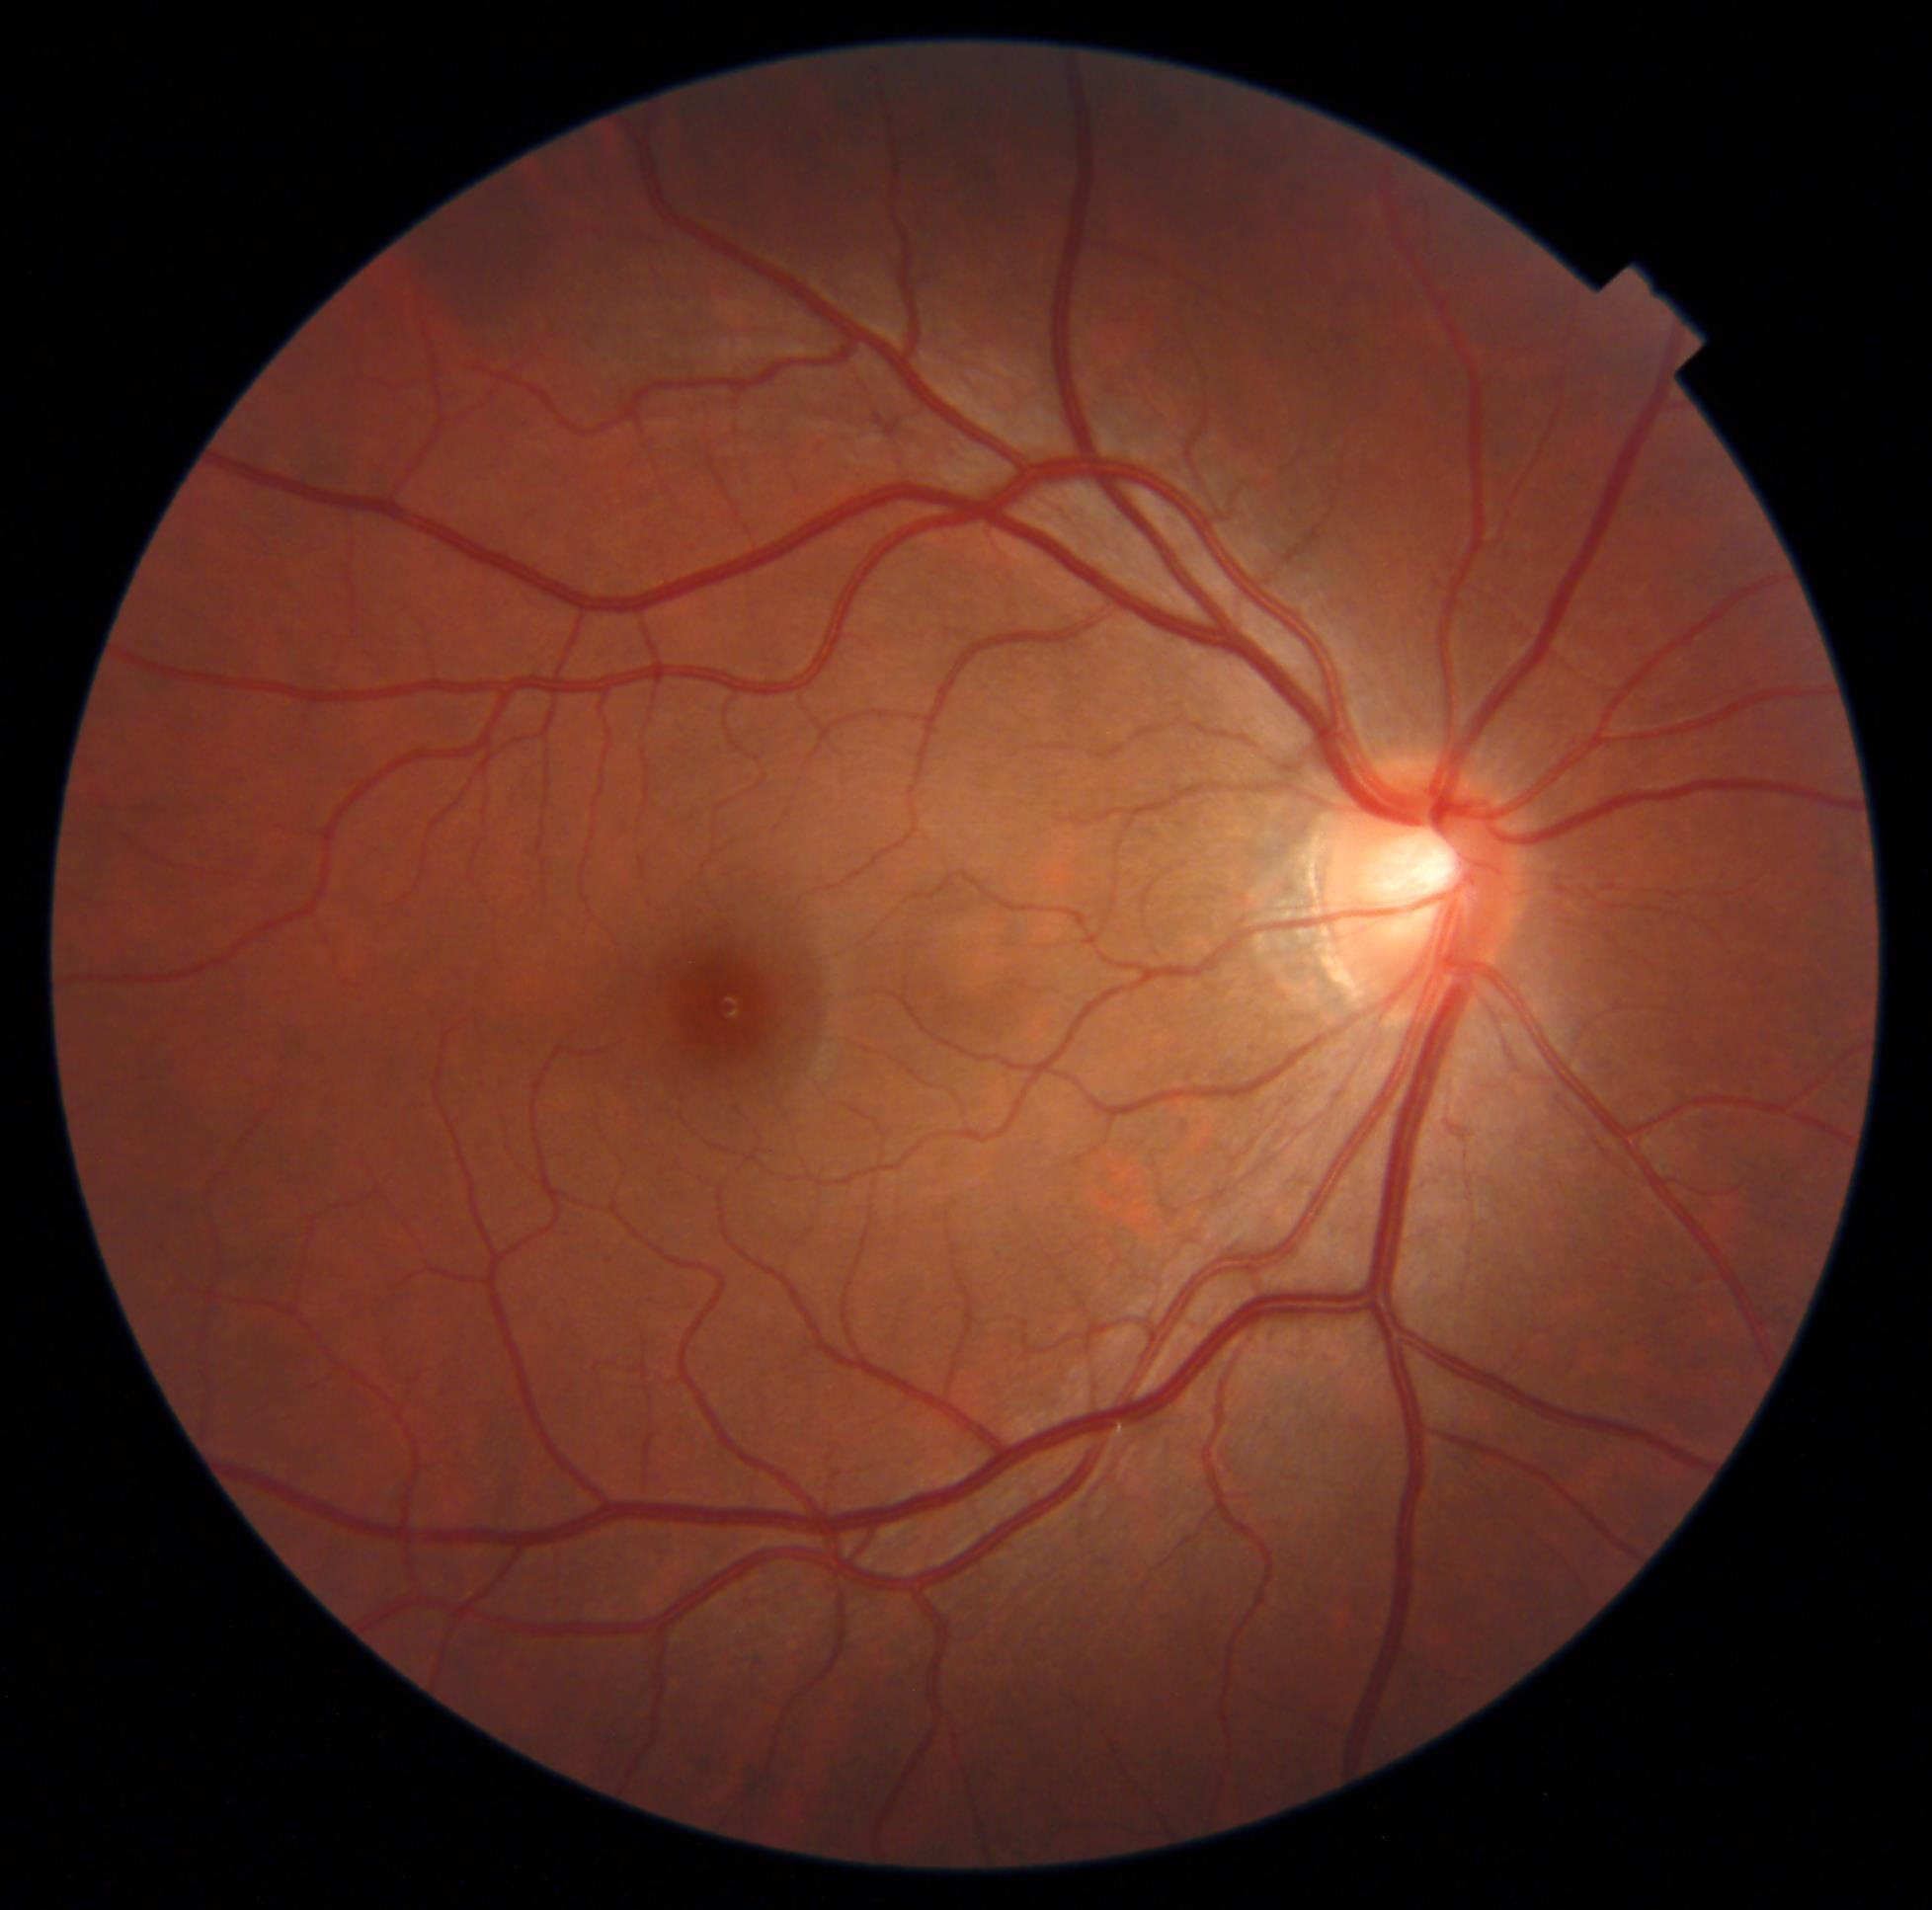Fovea: (623, 892, 829, 1107)
